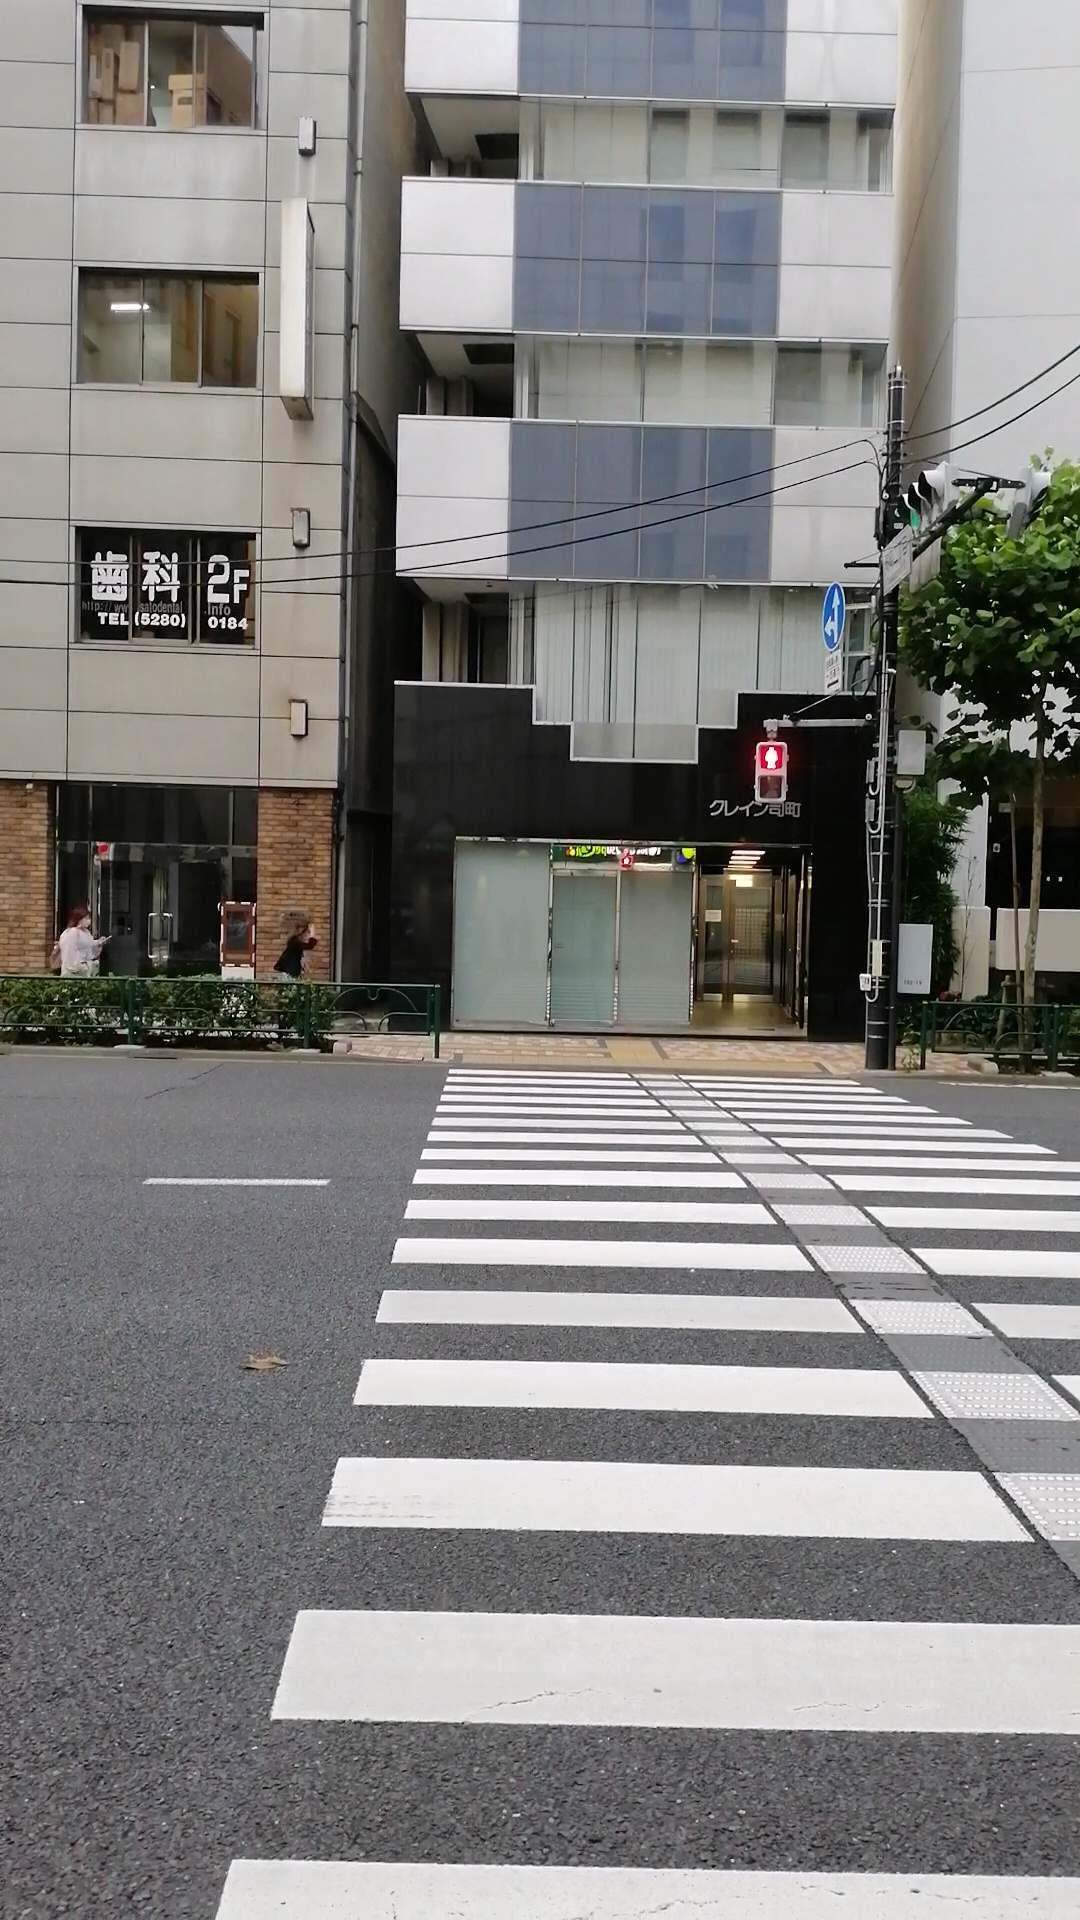red: (754, 741, 787, 804)
